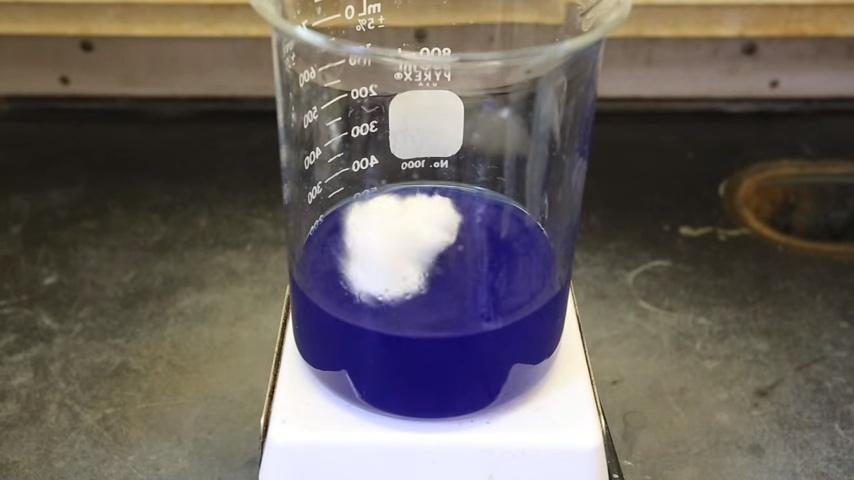Beaker: (249, 12, 619, 418)
